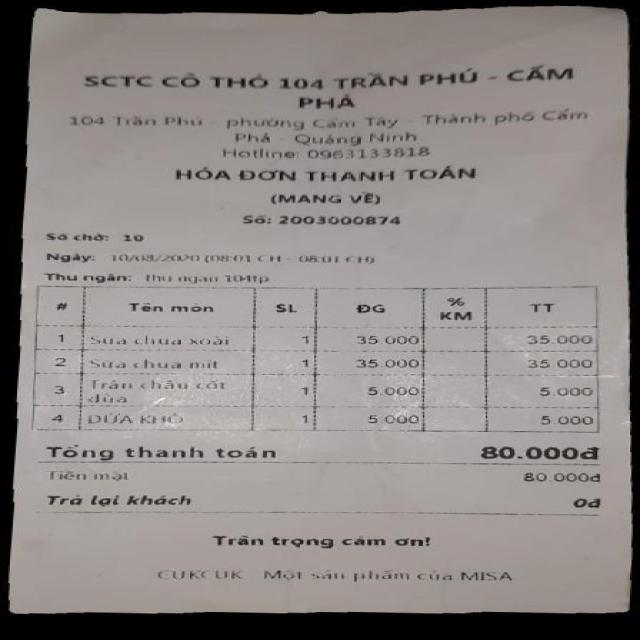Date: (106, 253, 197, 263)
Store_Name: (80, 61, 586, 111)
amount_number: (471, 443, 577, 463)
label_total: (37, 442, 285, 462)
